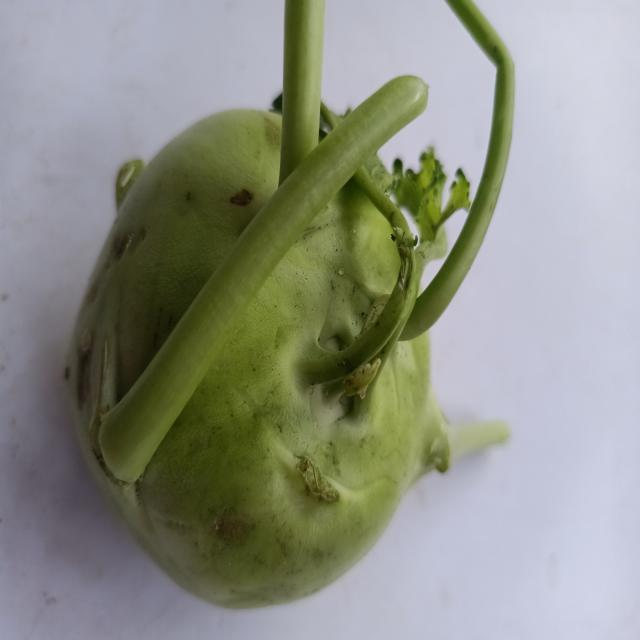Turnip: (47, 1, 529, 618)
